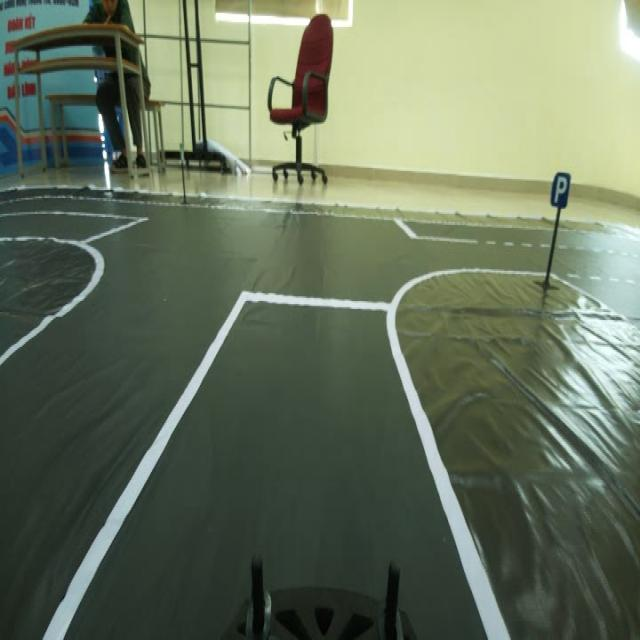parking: (548, 168, 577, 219)
